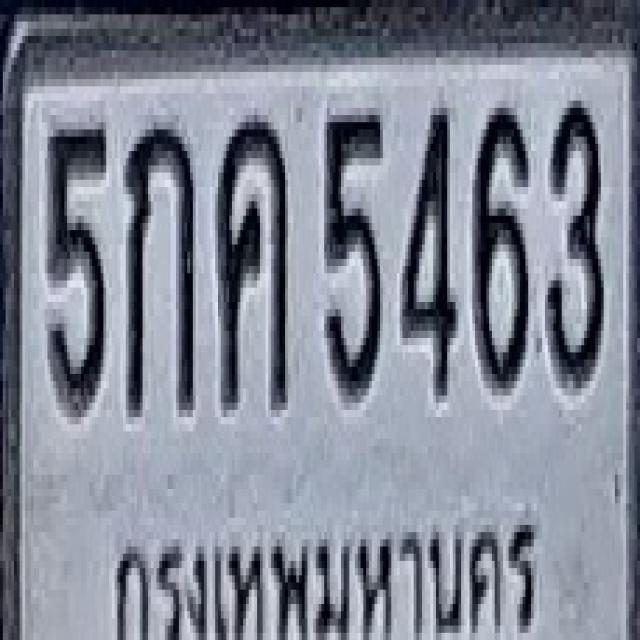3: (546, 94, 602, 381)
4: (400, 97, 456, 392)
5: (48, 119, 106, 414), (324, 108, 383, 395)
6: (472, 97, 528, 385)
A01: (124, 119, 194, 414)
A04: (216, 111, 286, 406)
BKK: (107, 507, 538, 640)
